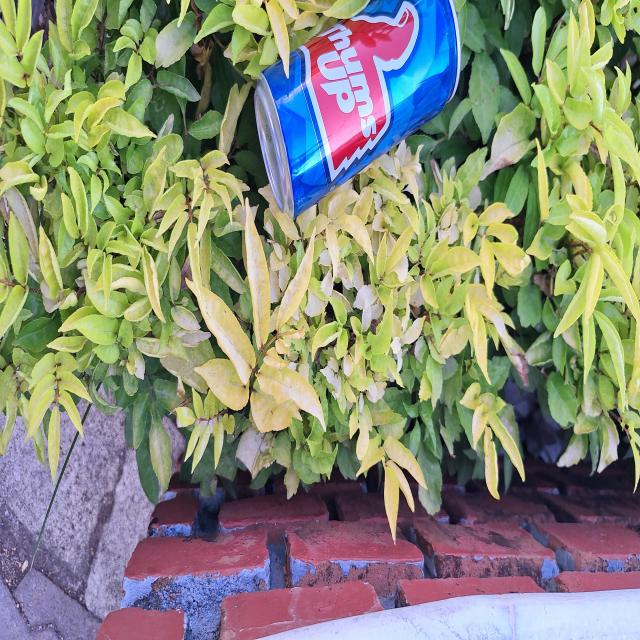Thums Up: (255, 0, 468, 219)
